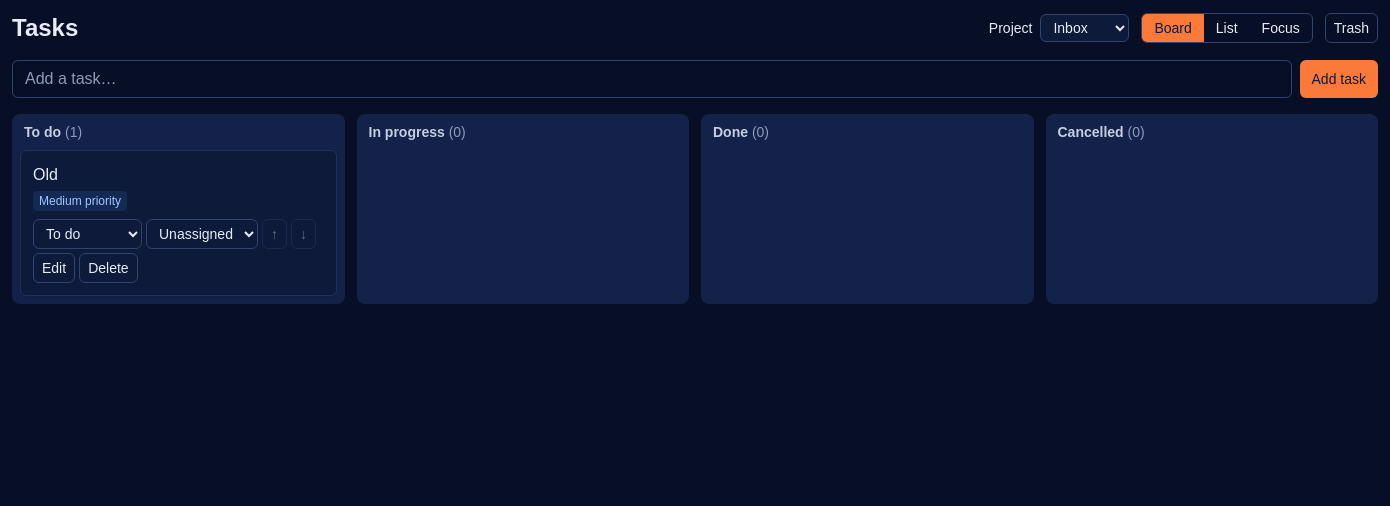
changing a task › edits the title, priority and deadline with the version it saw
Expected: the heading "Old" is shown, [33,166,58,183]
Click the button "Edit": (54, 268) [33,253,75,283]
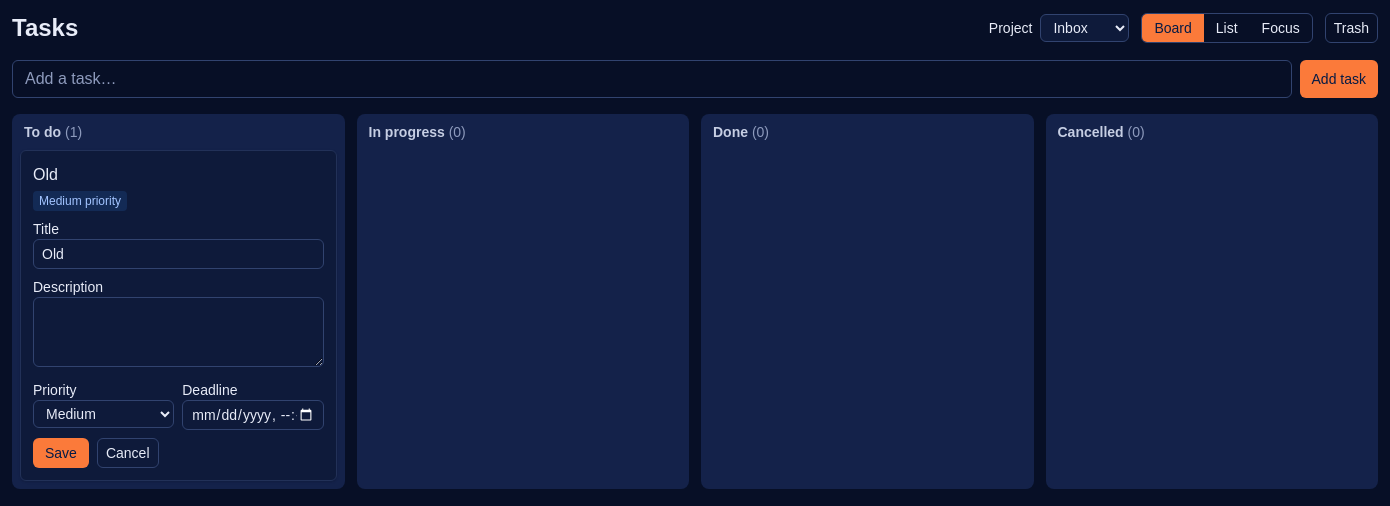
Replace the text in the field labelled "Title" with "New title": (178, 254) [33,239,324,269]
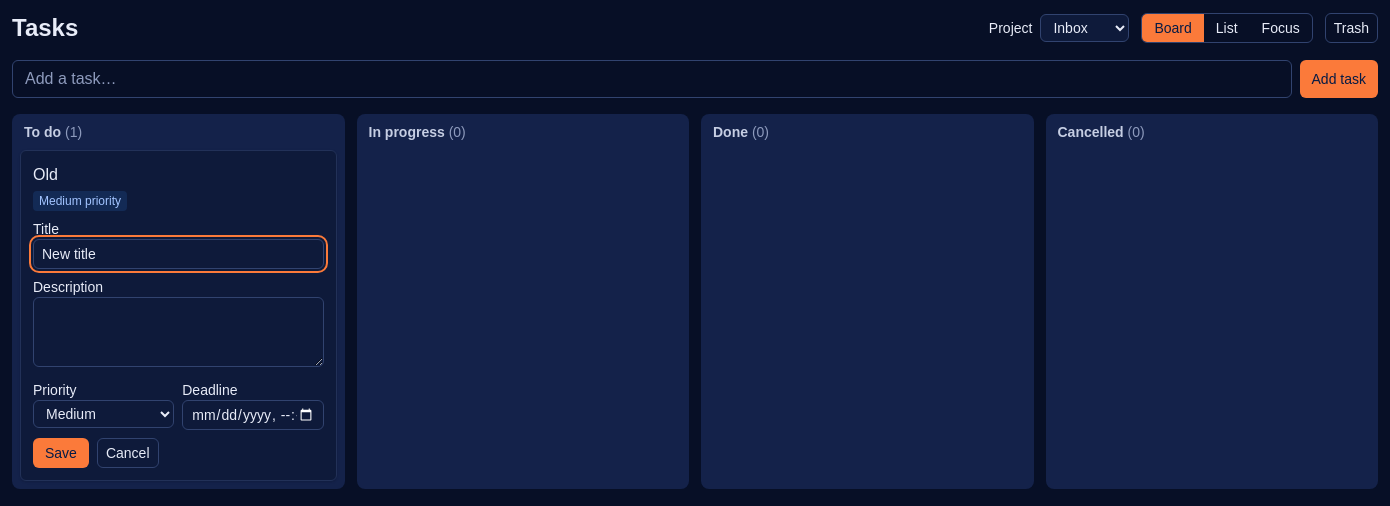
Select "High" in the dropdown labelled "Priority": (104, 414) [33,400,174,428]
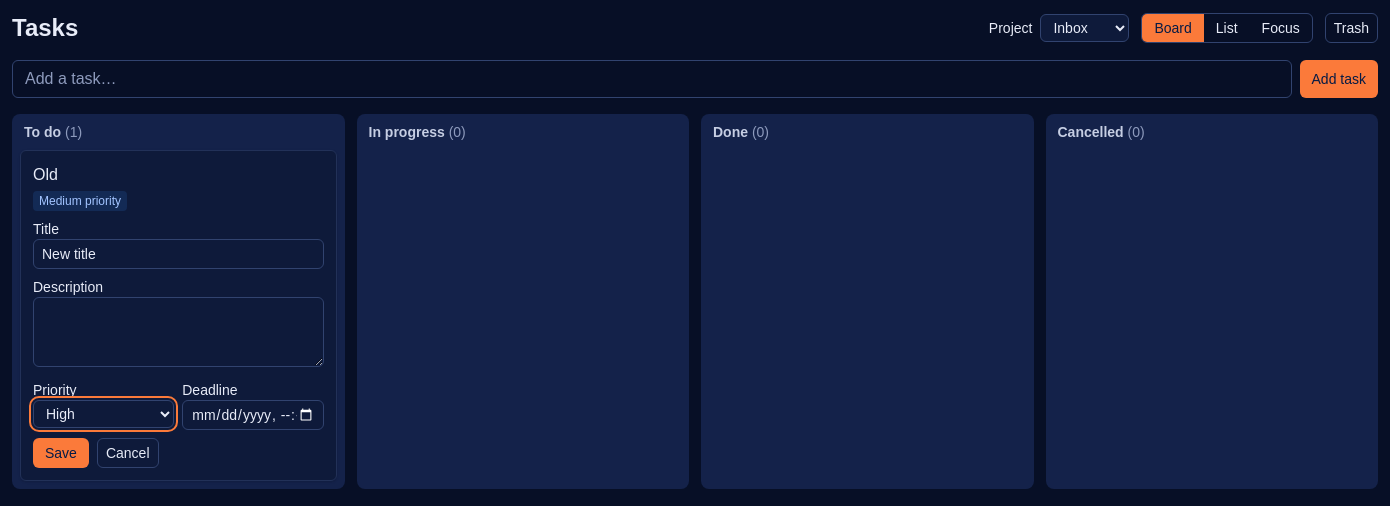
In the field labelled "Deadline": (253, 415) [182,400,324,430], type "2030-01-02T03:04"
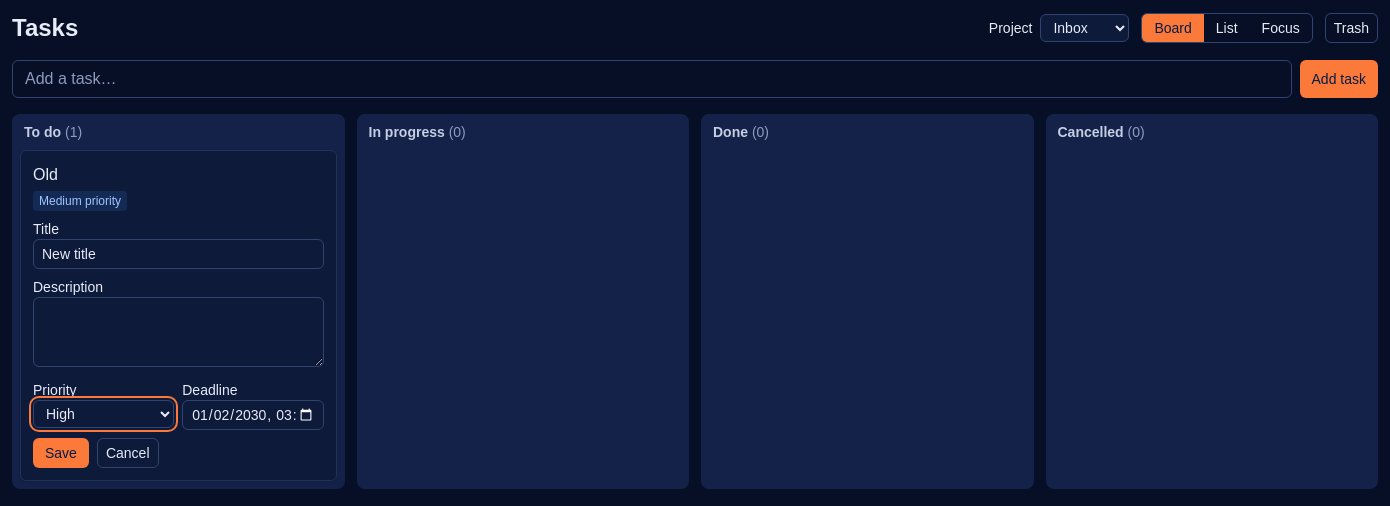
Click the button "Save": (61, 453) [33,438,89,468]
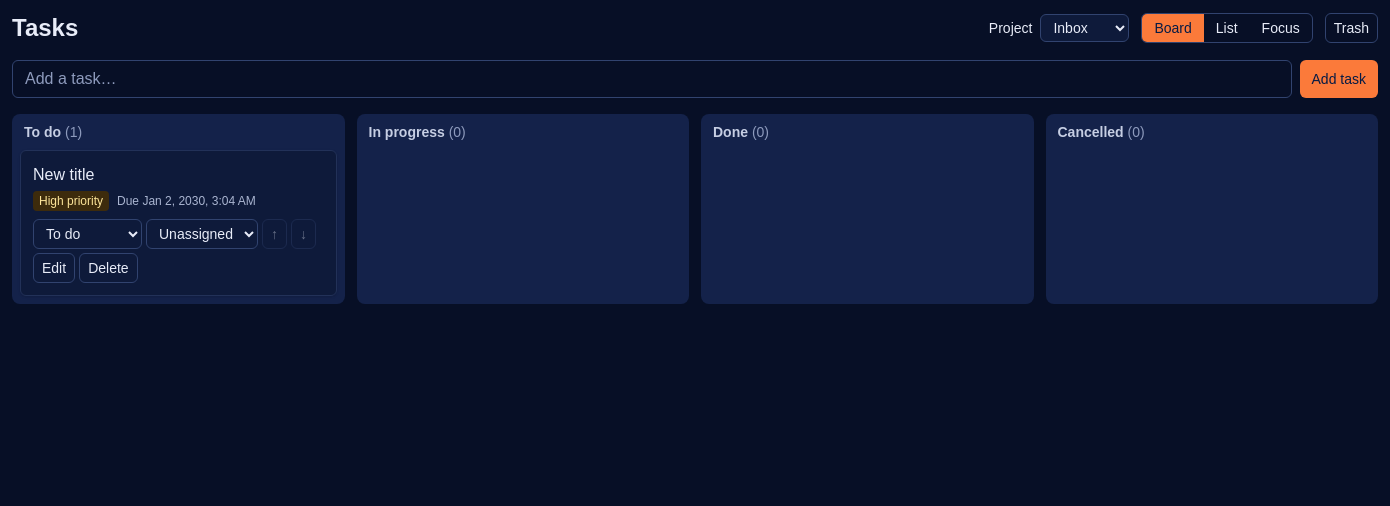
Expected: the heading "New title" is shown, [33,166,94,183]
